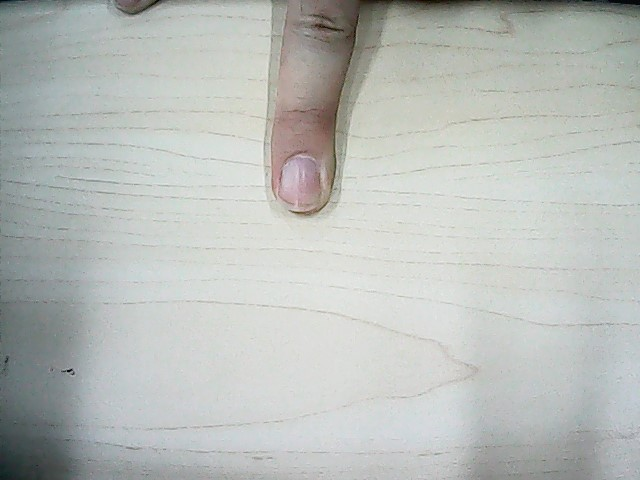nail: (278, 148, 325, 214)
